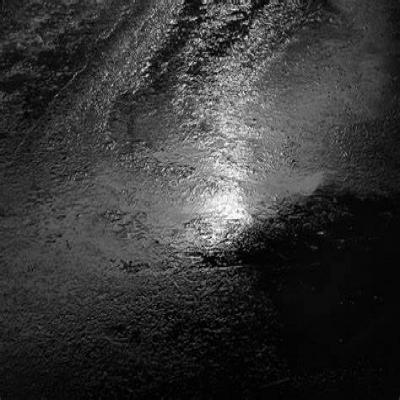iced-road: (0, 1, 400, 400)
